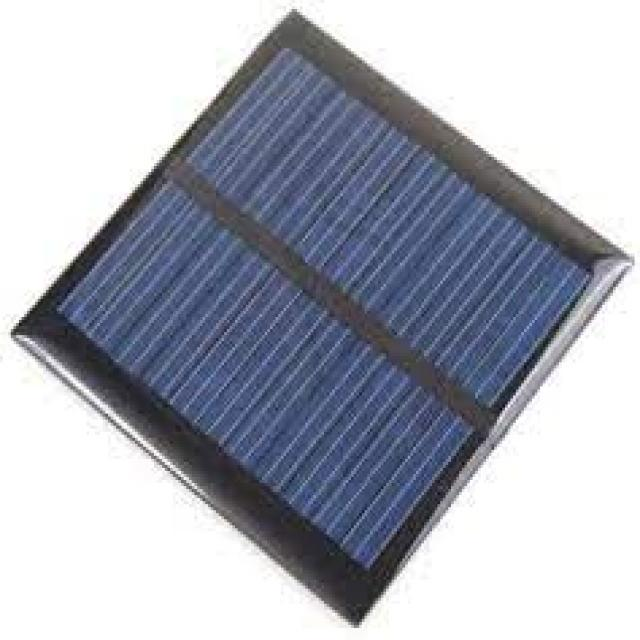no faulty: (7, 11, 636, 623)
